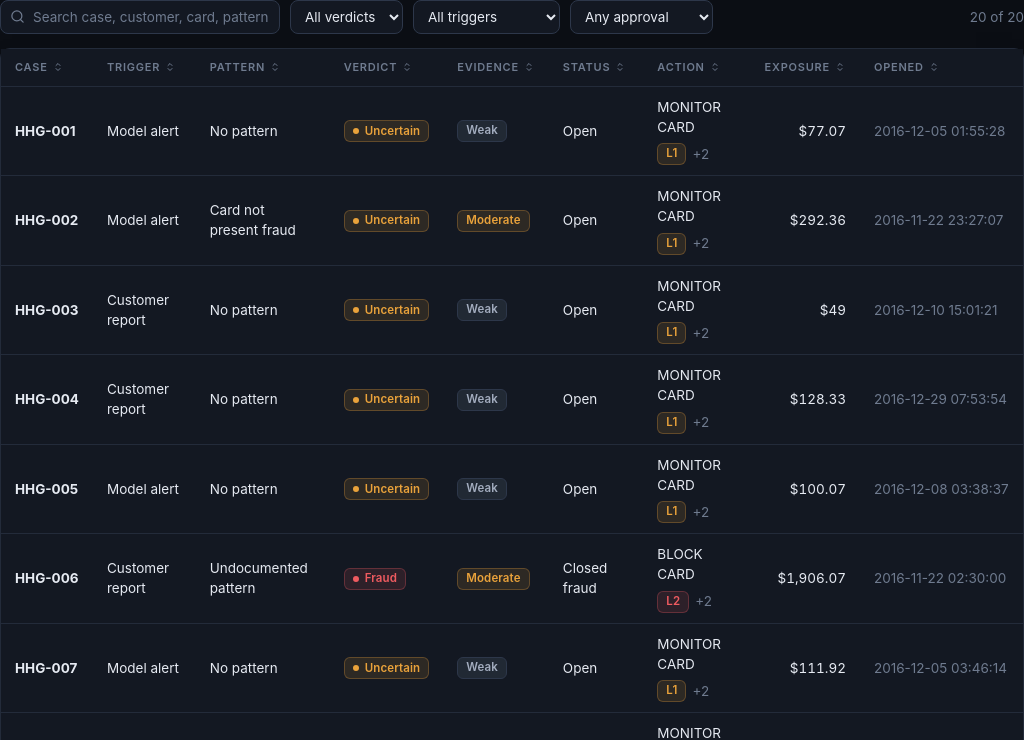
Test: case list › lists all 20 benchmark cases and filters, searches and sorts
Step 1. Select "Fraud" in the dropdown named "Filter by verdict" → (346, 17), box [290,0,403,34]
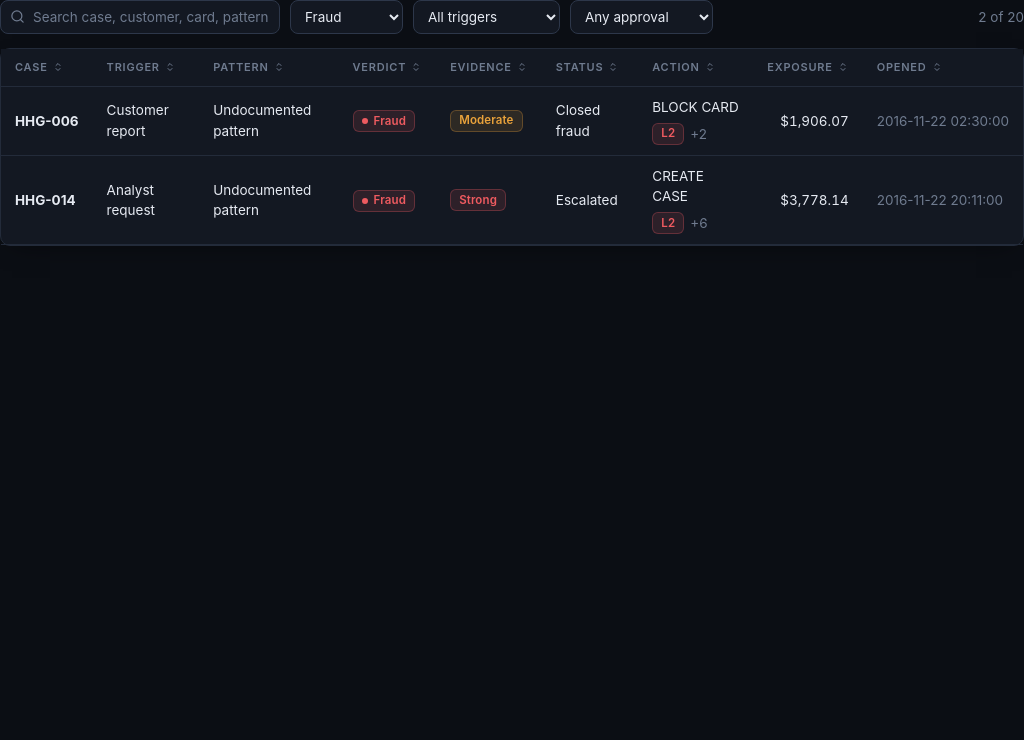
Expected: the number of rows is 3, [1,49,1023,86]; [1,86,1023,155]; [1,155,1023,245]
Step 2. Select "All verdicts" in the dropdown named "Filter by verdict" → (346, 17), box [290,0,403,34]
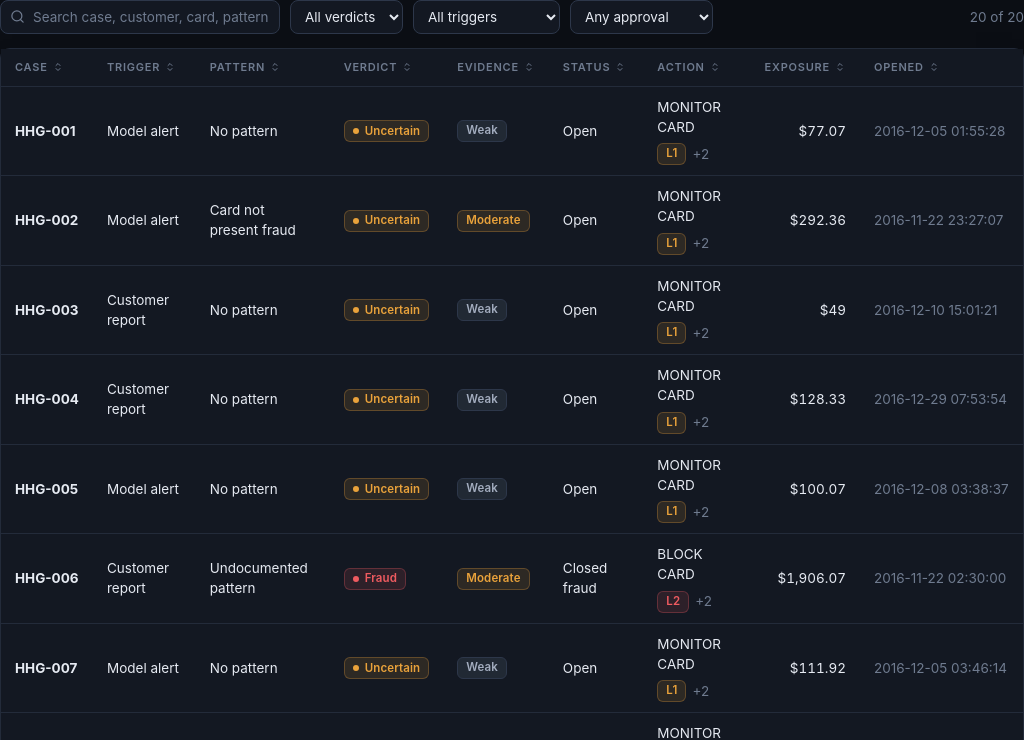
Step 3. Type "HHG-014" into the field named "Search investigations" → (140, 17), box [0,0,280,34]
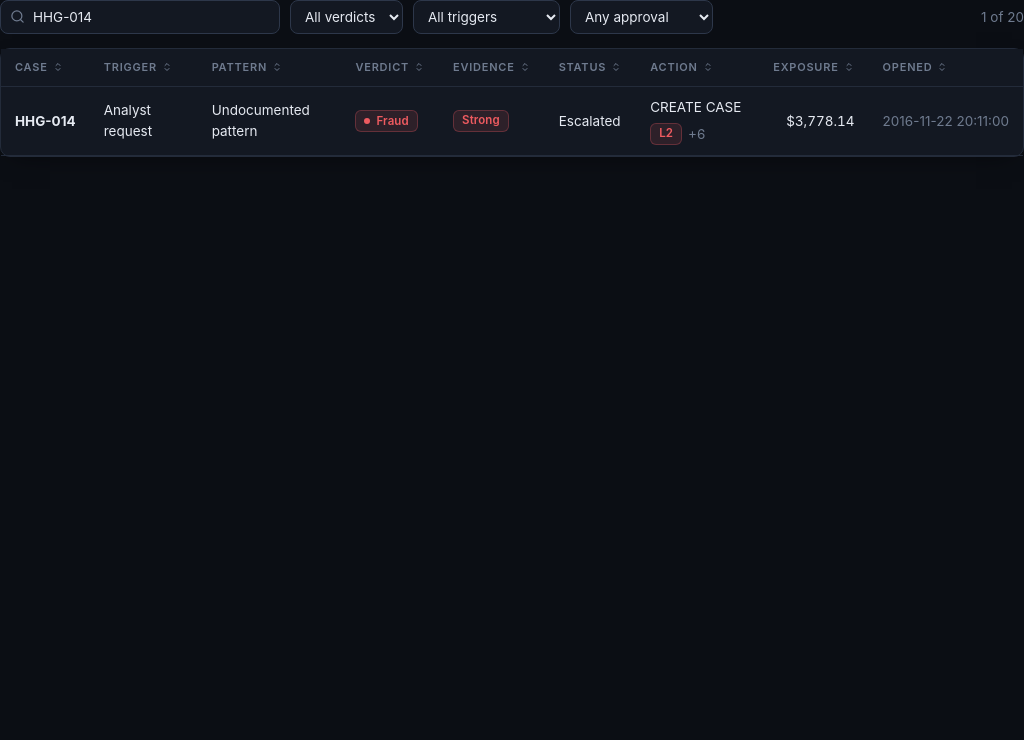
Expected: the number of rows is 2, [1,49,1023,86]; [1,86,1023,155]
Step 4. Replace the text in the field named "Search investigations" with "zzz-no-match" → (140, 17), box [0,0,280,34]
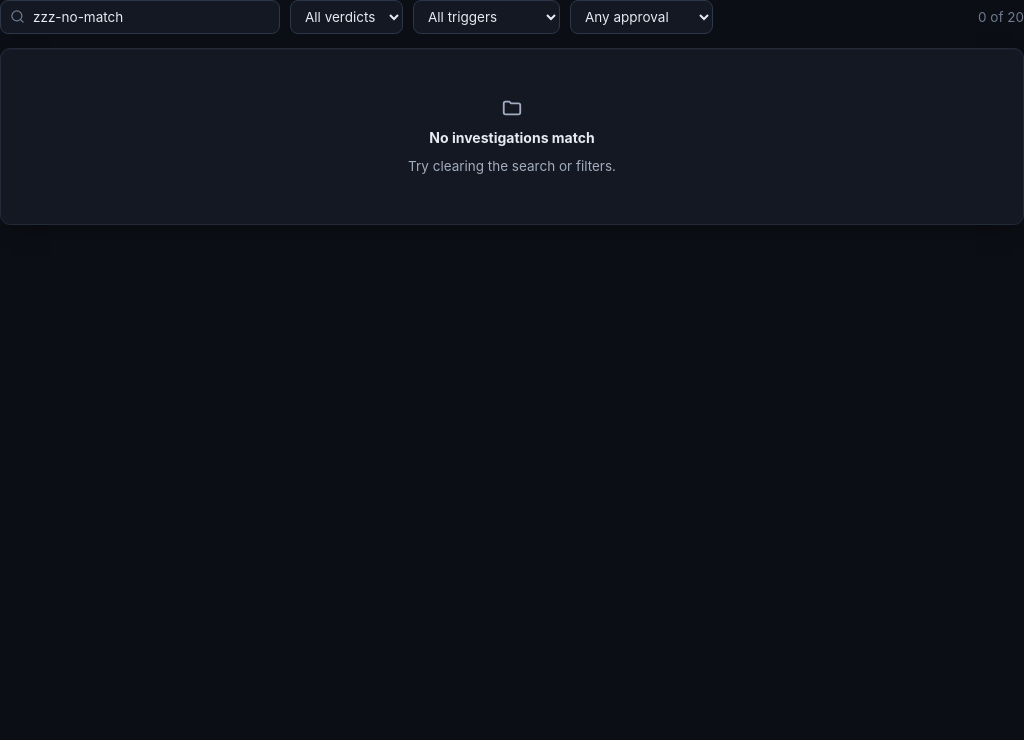
Now the heading "No investigations match" is shown, box [429,127,595,148]
